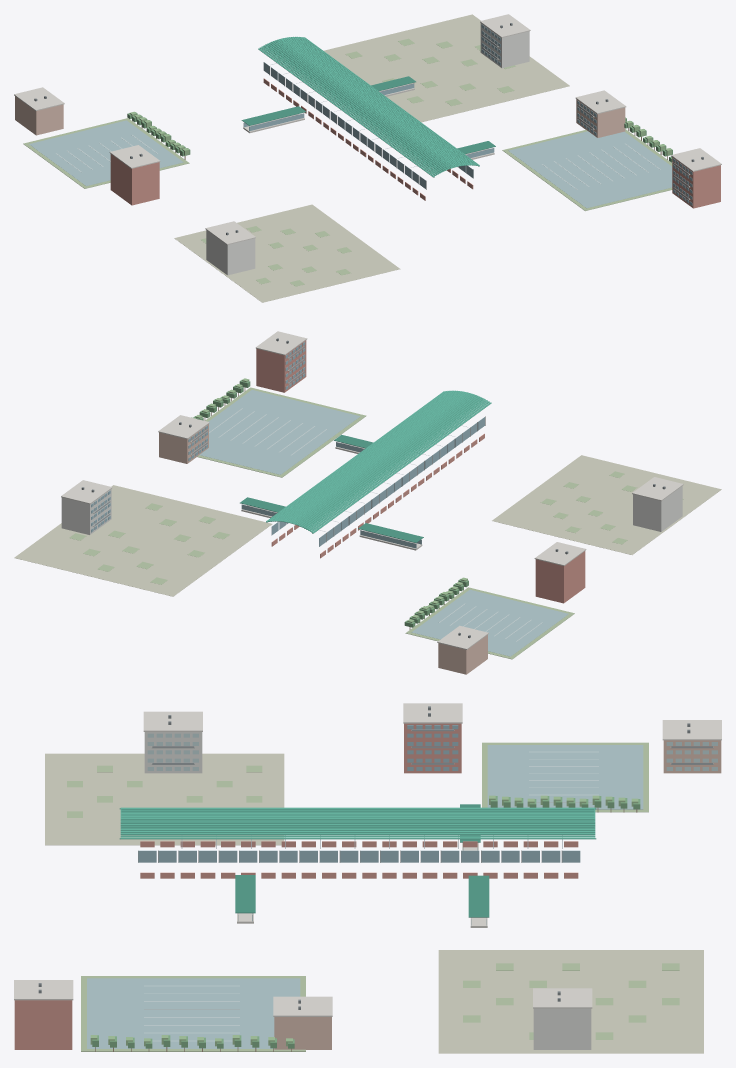
3 renders of one model, top to bottom at view 1: azimuth 30°, elevation 25°; view 2: azimuth 150°, elevation 25°; view 3: azimuth 270°, elevation 25°, orthographic. The views are drawn at different scales.
Parts seen in each view (by area): view 1: Station 1 photo-informed architecture and surroundings; view 2: Station 1 photo-informed architecture and surroundings; view 3: Station 1 photo-informed architecture and surroundings.
Boxes of the visible parts, <box> form: Station 1 photo-informed architecture and surroundings: <box>14,14,721,302</box>; Station 1 photo-informed architecture and surroundings: <box>14,331,721,674</box>; Station 1 photo-informed architecture and surroundings: <box>14,703,721,1053</box>.
Bounding box in the file's own units: 256 × 32.09 × 246.
